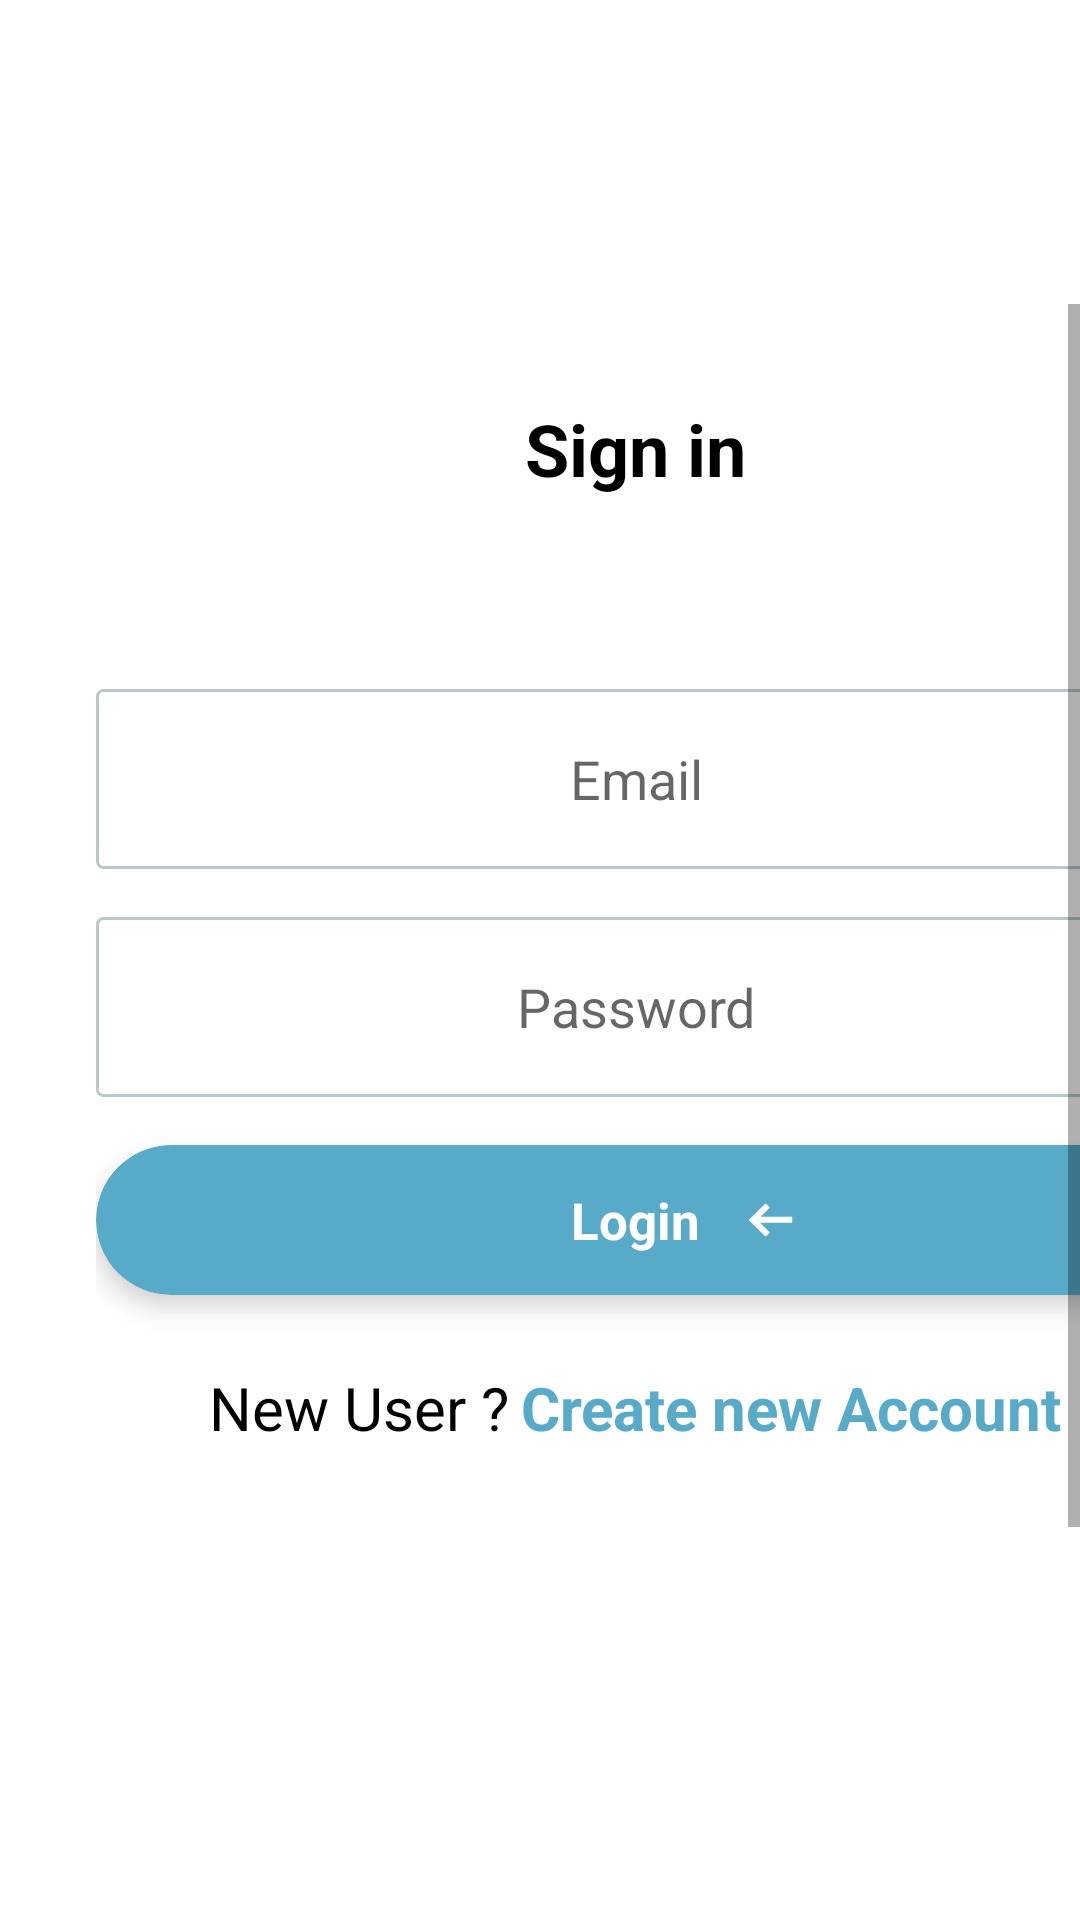

Icons on this 1080px×1920px Android screen, each with its box as [x1=x1, y1=y1, x2=x2, y2=y2]:
arrow: [x1=749, y1=1203, x2=793, y2=1237]
